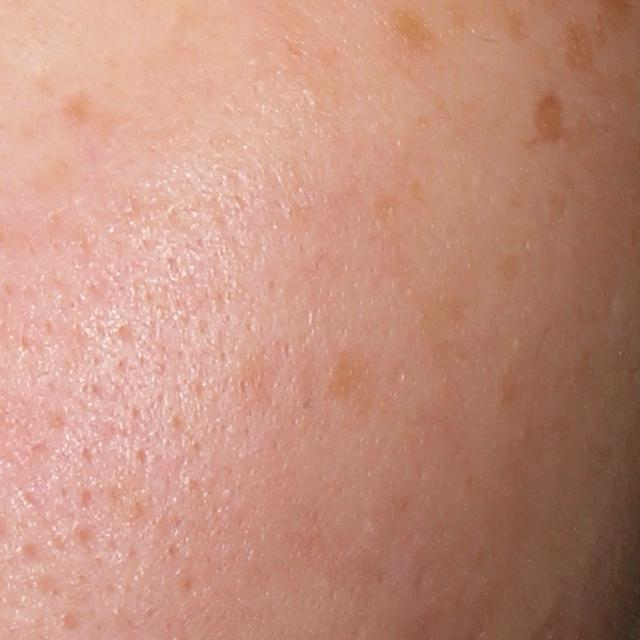melasma: (53, 90, 138, 158), (418, 292, 472, 369), (27, 153, 79, 205), (387, 6, 441, 55), (323, 356, 375, 405), (532, 92, 574, 145), (370, 194, 409, 226), (502, 2, 531, 44)
